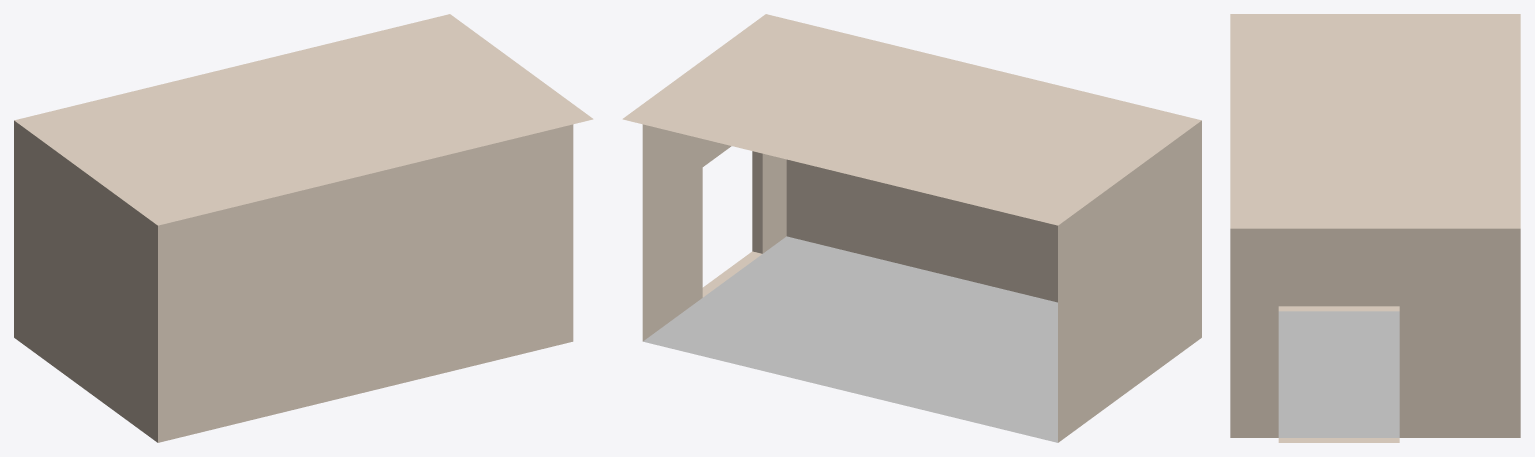
Rendered from L27-Office.obj.
3 renders of one model, left to right at view 1: azimuth 30°, elevation 25°; view 2: azimuth 150°, elevation 25°; view 3: azimuth 270°, elevation 25°, orthographic.
Parts seen in each view (by area): view 1: L27-Office; view 2: L27-Office; view 3: L27-Office.
Part boxes in pixels (left/top/right/bottom): L27-Office: left=14, top=14, right=593, bottom=442; L27-Office: left=622, top=14, right=1201, bottom=442; L27-Office: left=1230, top=14, right=1520, bottom=442.
Size of the model in its own units: 10.5 by 5 by 6.
